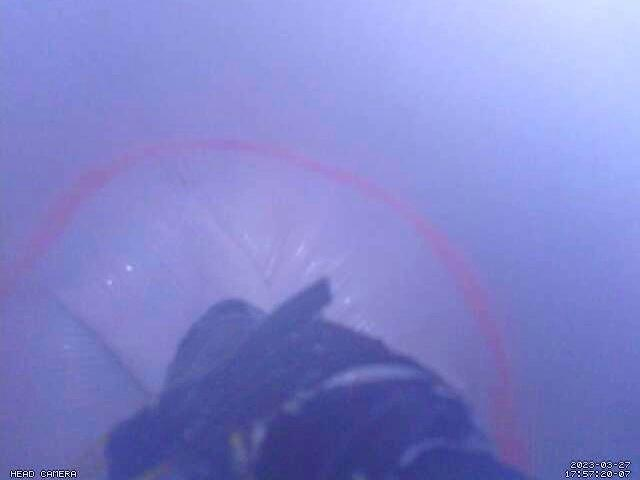head: (0, 136, 531, 480)
